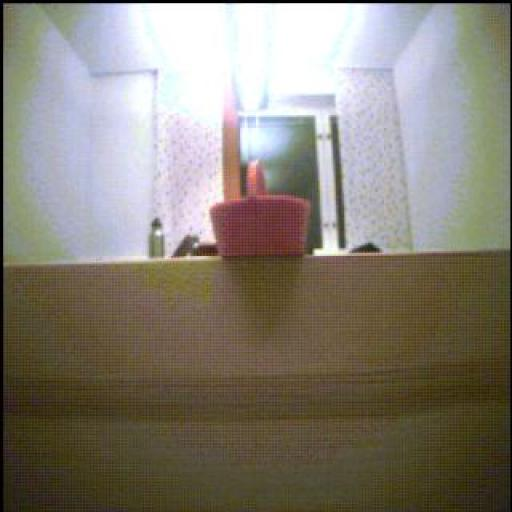Bucket: (211, 163, 312, 257)
